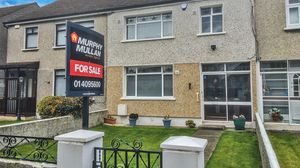property sign: (59, 14, 111, 104)
